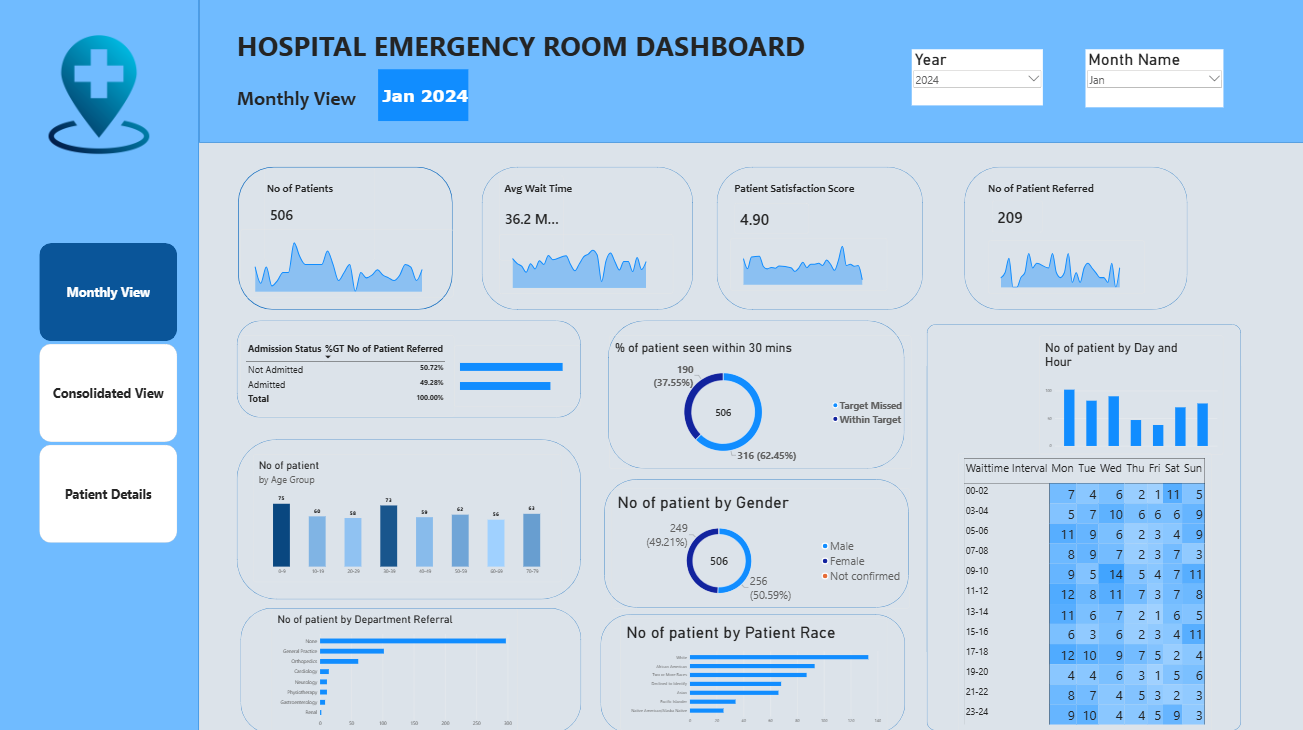

The dashboard page shown, as its layout file describes it:
{"tool":"powerbi","page":{"name":"Monthly View ","canvas":[3840,2160],"ordinal":0},"visuals":[{"type":"shape","box":[0,0,590,2160],"z":0},{"type":"shape","box":[590,0,3250,425],"z":1000},{"type":"textbox","box":[700,255,405,115],"z":2000},{"type":"cardVisual","fields":{"Data":["Hospital ER_Data.No of patient"]},"box":[780,495,325,275],"z":3000},{"type":"slicer","fields":{"Values":["Date Table.Year"]},"box":[2680,150,385,165],"z":4000},{"type":"slicer","fields":{"Values":["Date Table.Month Name"]},"box":[3190,150,405,170],"z":5000},{"type":"shape","box":[705,495,630,420],"z":6000},{"type":"textbox","box":[790,540,375,80],"z":7000},{"type":"areaChart","fields":{"Category":["Date Table.Date.Variation.Date Hierarchy.Day"],"Y":["Hospital ER_Data.No of patient"]},"box":[710,680,625,200],"z":8000},{"type":"cardVisual","fields":{"Rows":["Date Table.Month & Year"]},"box":[1110,210,1445,160],"z":9000},{"type":"shape","box":[2835,495,655,420],"z":10000},{"type":"shape","box":[1420,495,620,420],"z":11000},{"type":"shape","box":[2110,495,605,420],"z":12000},{"type":"textbox","box":[1485,540,350,75],"z":13000},{"type":"cardVisual","fields":{"Data":["Hospital ER_Data.Avg Wait Time"]},"box":[1470,520,190,250],"z":14000},{"type":"areaChart","fields":{"Category":["Date Table.Date.Variation.Date Hierarchy.Day"],"Y":["Avg(Hospital ER_Data.Patient Waittime)"]},"box":[1470,695,510,175],"z":15000},{"type":"textbox","box":[2160,540,450,60],"z":16000},{"type":"cardVisual","fields":{"Data":["Hospital ER_Data.Satisfaction Score"]},"box":[2160,600,220,90],"z":17000},{"type":"areaChart","fields":{"Category":["Date Table.Date.Variation.Date Hierarchy.Day"],"Y":["Hospital ER_Data.Satisfaction Score"]},"box":[2150,705,460,155],"z":18000},{"type":"textbox","box":[2905,540,460,60],"z":19000},{"type":"cardVisual","fields":{"Data":["Hospital ER_Data.No of Patient Referred"]},"box":[2915,595,150,94],"z":20000},{"type":"areaChart","fields":{"Category":["Date Table.Date.Variation.Date Hierarchy.Day"],"Y":["Hospital ER_Data.No of Patient Referred"]},"box":[2905,710,460,155],"z":21000},{"type":"pivotTable","fields":{"Rows":["Hospital ER_Data.Admission Status"],"Values":["Hospital ER_Data.No of Patient Referred"]},"box":[710,990,627.5,237.5],"z":22000},{"type":"shape","box":[700,1295,1010,470],"z":23000},{"type":"barChart","fields":{"Category":["Hospital ER_Data.Admission Status"],"Y":["Hospital ER_Data.No of patient"]},"box":[1340,1020,370,180],"z":24000},{"type":"shape","box":[700,945,1010,285],"z":25000},{"type":"clusteredColumnChart","fields":{"Category":["Hospital ER_Data.Age Group"],"Y":["Hospital ER_Data.No of patient"]},"box":[750,1340,905,375],"z":26000},{"type":"clusteredBarChart","title":"No of patient by Department Referral","fields":{"Category":["Hospital ER_Data.Department Referral"],"Y":["Hospital ER_Data.No of patient"]},"box":[805,1790,721.8,370.5],"z":27000},{"type":"shape","box":[710,1790,1000,370],"z":28000},{"type":"textbox","box":[3690,425,150,1735],"z":29000},{"type":"textbox","box":[700,85,1715,130],"z":30000},{"type":"shape","box":[1790,945,870,435],"z":31000},{"type":"donutChart","title":"% of patient seen within 30 mins","fields":{"Category":["Hospital ER_Data.Waittime Status"],"Y":["Hospital ER_Data.No of patient"]},"box":[1794,990,886,390],"z":32000},{"type":"shape","box":[1780,1413.3,893.3,376.7],"z":33000},{"type":"donutChart","title":"No of patient by Gender","fields":{"Category":["Hospital ER_Data.Patient Gender"],"Y":["Hospital ER_Data.No of patient"]},"box":[1800,1436.7,873.3,353.3],"z":34000},{"type":"shape","box":[1770,1810,894,350],"z":35000},{"type":"clusteredBarChart","fields":{"Category":["Hospital ER_Data.Patient Race"],"Y":["Hospital ER_Data.No of patient"]},"box":[1826,1820,782,330],"z":36000},{"type":"shape","box":[2727.5,957.5,922.5,1192.5],"z":37000},{"type":"pivotTable","fields":{"Columns":["Date Table.Date Name"],"Rows":["Hospital ER_Data.Waittime Interval"],"Values":["Hospital ER_Data.No of patient"]},"box":[2817.5,1335,745,825],"z":38000},{"type":"columnChart","title":"No of patient by Day and Hour","fields":{"Category":["Date Table.Day Name"],"Y":["Hospital ER_Data.No of patient"]},"box":[3055,990,540,350],"z":39000},{"type":"image","box":[120,75,350,420],"z":40000},{"type":"pageNavigator","box":[120,720,405,880],"z":41000}]}

Visuals, with their boxes in screenshot pixels (x1, y1, x2, y2), scaled from the page's 3840x2160 canvas onto the 1303x730 screenshot:
shape: (left=0, top=0, right=200, bottom=729)
shape: (left=200, top=0, right=1302, bottom=144)
textbox: (left=238, top=86, right=375, bottom=125)
cardVisual - Hospital ER_Data.No of patient: (left=265, top=167, right=375, bottom=260)
slicer - Date Table.Year: (left=909, top=51, right=1040, bottom=106)
slicer - Date Table.Month Name: (left=1082, top=51, right=1220, bottom=108)
shape: (left=239, top=167, right=453, bottom=309)
textbox: (left=268, top=182, right=395, bottom=210)
areaChart - Date Table.Date.Variation.Date Hierarchy.Day x Hospital ER_Data.No of patient: (left=241, top=230, right=453, bottom=297)
cardVisual - Date Table.Month & Year: (left=377, top=71, right=867, bottom=125)
shape: (left=962, top=167, right=1184, bottom=309)
shape: (left=482, top=167, right=692, bottom=309)
shape: (left=716, top=167, right=921, bottom=309)
textbox: (left=504, top=182, right=623, bottom=208)
cardVisual - Hospital ER_Data.Avg Wait Time: (left=499, top=176, right=563, bottom=260)
areaChart - Date Table.Date.Variation.Date Hierarchy.Day x Avg(Hospital ER_Data.Patient Waittime): (left=499, top=235, right=672, bottom=294)
textbox: (left=733, top=182, right=886, bottom=203)
cardVisual - Hospital ER_Data.Satisfaction Score: (left=733, top=203, right=808, bottom=233)
areaChart - Date Table.Date.Variation.Date Hierarchy.Day x Hospital ER_Data.Satisfaction Score: (left=730, top=238, right=886, bottom=291)
textbox: (left=986, top=182, right=1142, bottom=203)
cardVisual - Hospital ER_Data.No of Patient Referred: (left=989, top=201, right=1040, bottom=233)
areaChart - Date Table.Date.Variation.Date Hierarchy.Day x Hospital ER_Data.No of Patient Referred: (left=986, top=240, right=1142, bottom=292)
pivotTable - Hospital ER_Data.Admission Status x Hospital ER_Data.No of Patient Referred: (left=241, top=335, right=454, bottom=415)
shape: (left=238, top=438, right=580, bottom=597)
barChart - Hospital ER_Data.Admission Status x Hospital ER_Data.No of patient: (left=455, top=345, right=580, bottom=406)
shape: (left=238, top=319, right=580, bottom=416)
clusteredColumnChart - Hospital ER_Data.Age Group x Hospital ER_Data.No of patient: (left=254, top=453, right=562, bottom=580)
"No of patient by Department Referral" clusteredBarChart: (left=273, top=605, right=518, bottom=729)
shape: (left=241, top=605, right=580, bottom=729)
textbox: (left=1252, top=144, right=1302, bottom=729)
textbox: (left=238, top=29, right=819, bottom=73)
shape: (left=607, top=319, right=903, bottom=466)
"% of patient seen within 30 mins" donutChart: (left=609, top=335, right=909, bottom=466)
shape: (left=604, top=478, right=907, bottom=605)
"No of patient by Gender" donutChart: (left=611, top=486, right=907, bottom=605)
shape: (left=601, top=612, right=904, bottom=729)
clusteredBarChart - Hospital ER_Data.Patient Race x Hospital ER_Data.No of patient: (left=620, top=615, right=885, bottom=727)
shape: (left=926, top=324, right=1239, bottom=727)
pivotTable - Date Table.Date Name x Hospital ER_Data.Waittime Interval: (left=956, top=451, right=1209, bottom=729)
"No of patient by Day and Hour" columnChart: (left=1037, top=335, right=1220, bottom=453)
image: (left=41, top=25, right=159, bottom=167)
pageNavigator: (left=41, top=243, right=178, bottom=541)
